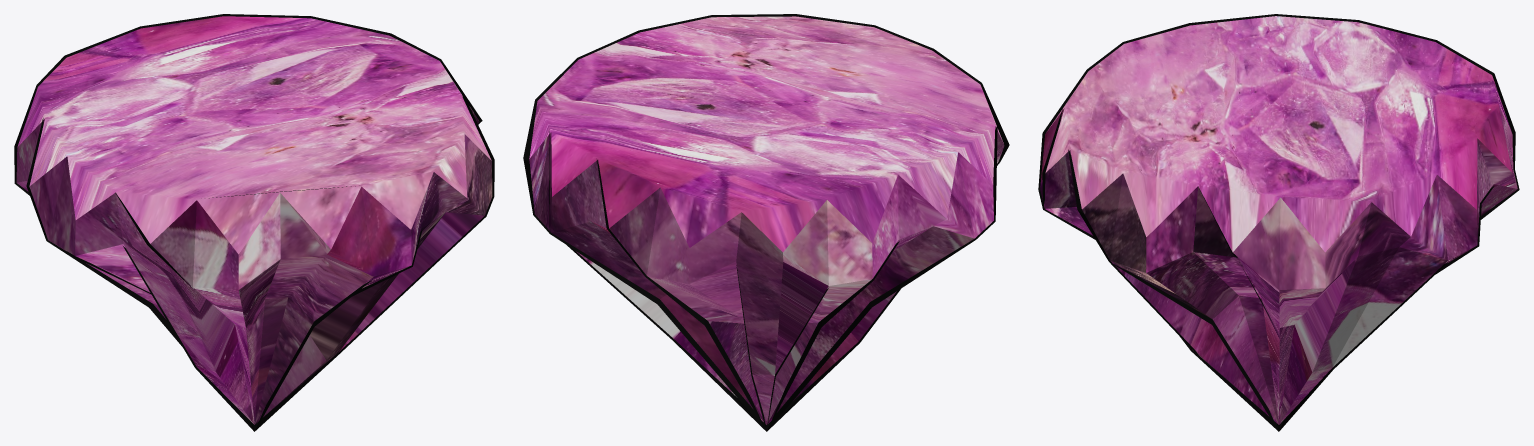
File: Amethyst_1.glb
3 renders of one model, left to right at view 1: azimuth 30°, elevation 25°; view 2: azimuth 150°, elevation 25°; view 3: azimuth 270°, elevation 25°, orthographic.
Visible parts, largest first — view 1: Amethyst; view 2: Amethyst; view 3: Amethyst.
Part boxes in pixels (bbox=[...]): Amethyst: bbox=[14, 14, 494, 431]; Amethyst: bbox=[523, 14, 1009, 431]; Amethyst: bbox=[1038, 14, 1519, 431].
Size of the model in its own units: 3.01 by 2.27 by 3.01.
Materials: 2 (1 with a texture image).
